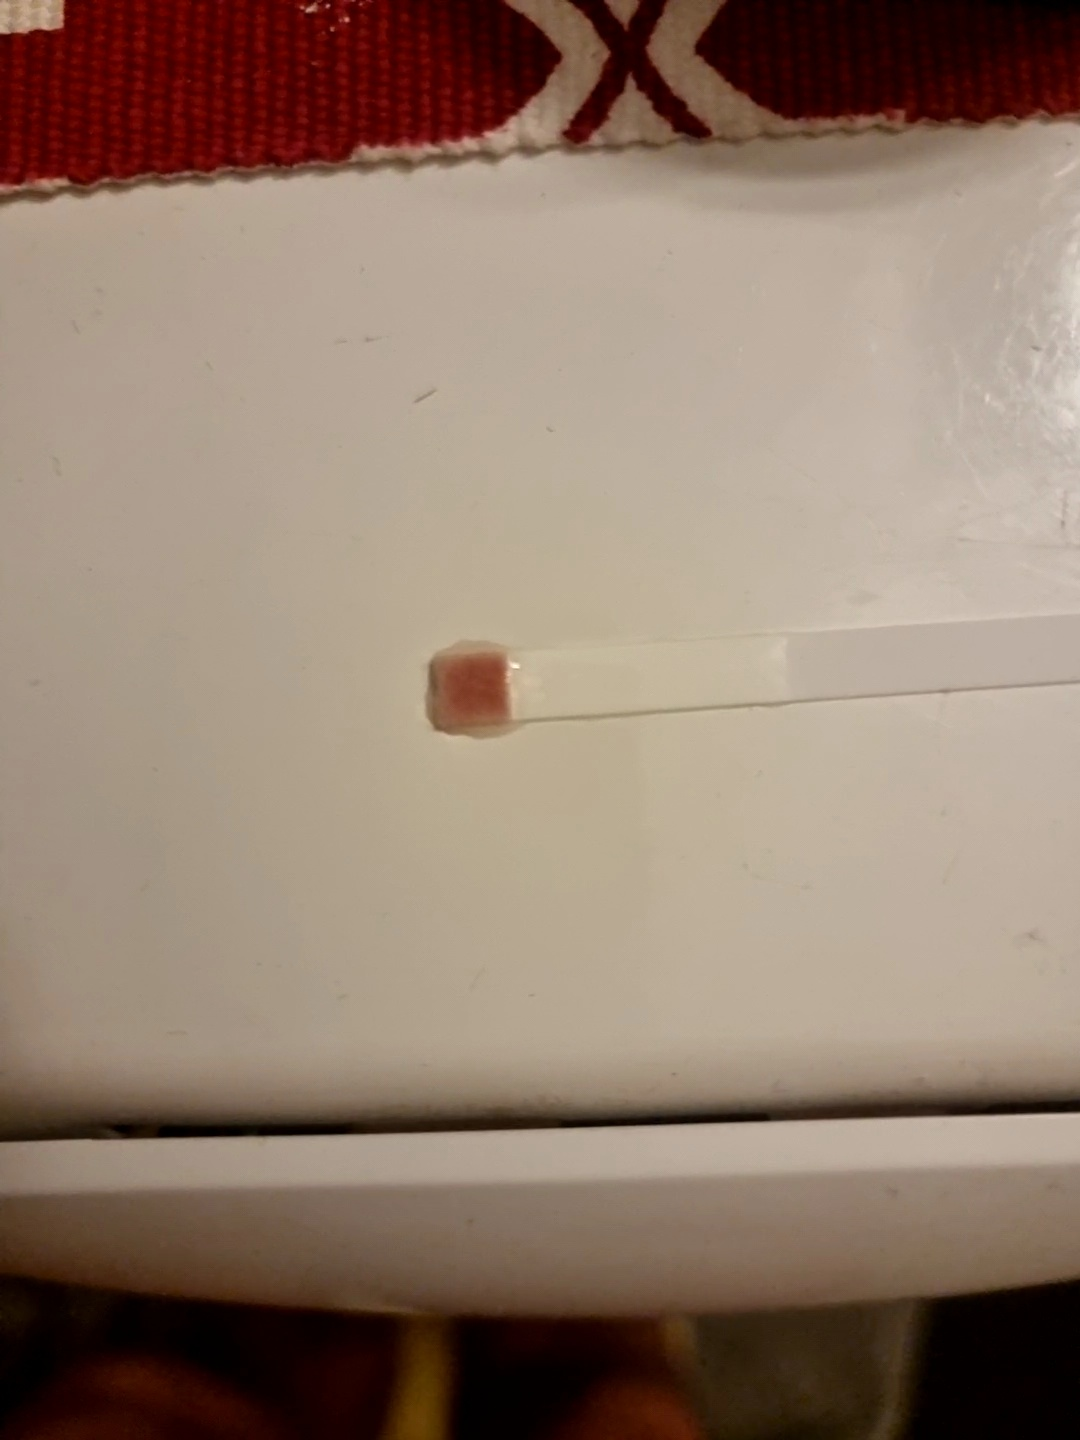keto-tip: (427, 652, 521, 735)
